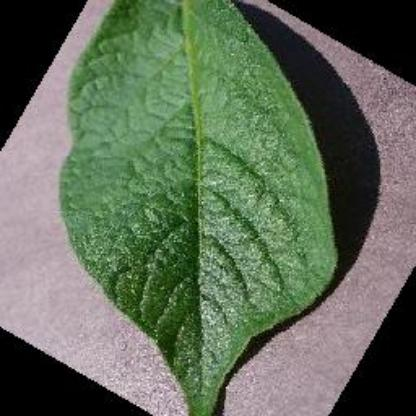Healthy-plant: (61, 0, 360, 416)
